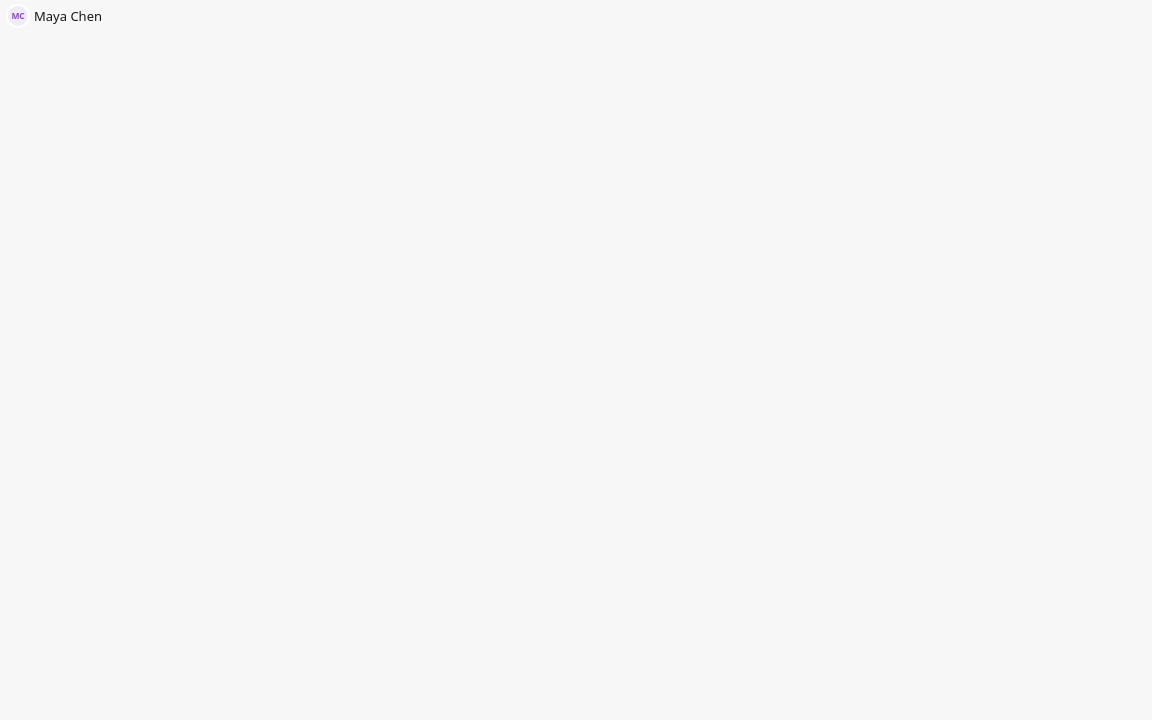
AssigneeField › toggles members from the checkbox list
Later steps or results of the test are not shown.
Click the button named "Assignees:".
click(65, 15)  # box x1=0 y1=0 x2=1151 y2=32
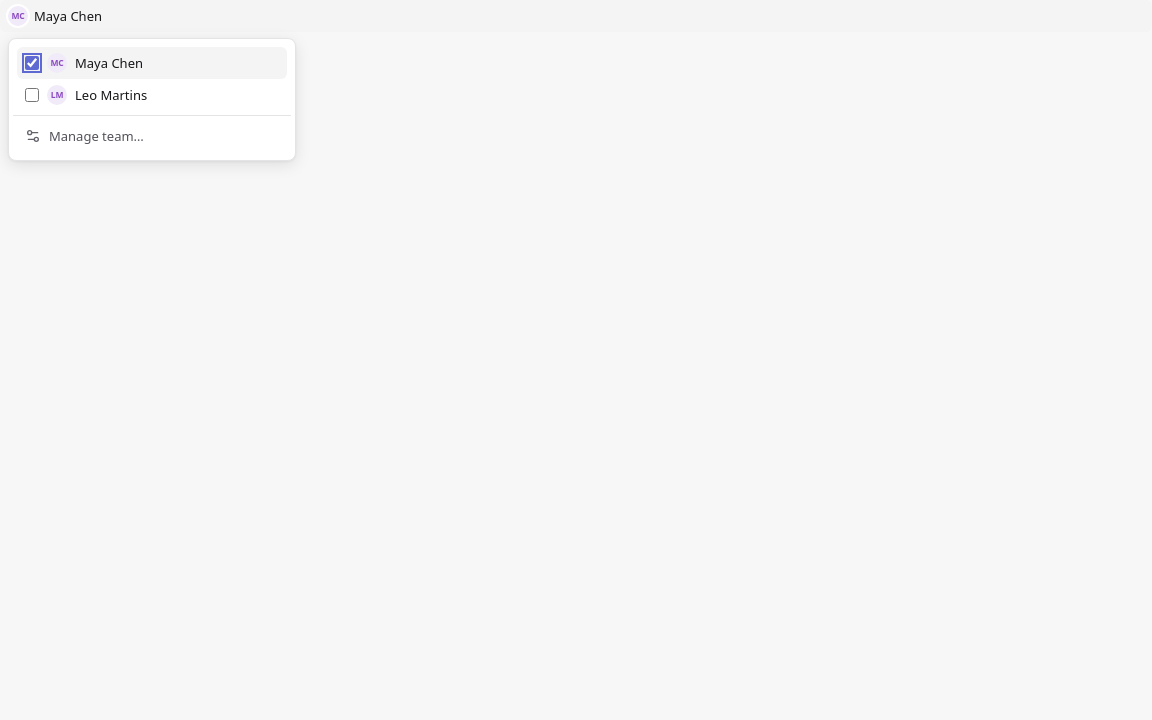
Expected: the checkbox labelled "Maya Chen" is checked, x1=25 y1=56 x2=39 y2=70
